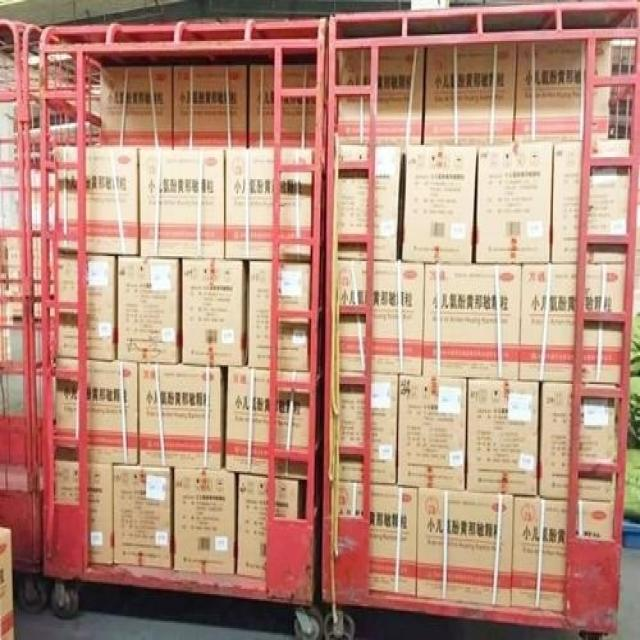box: (424, 263, 521, 381), (419, 488, 513, 608), (476, 140, 553, 263), (138, 150, 224, 258), (425, 43, 517, 143), (141, 364, 227, 468), (403, 147, 477, 265), (468, 379, 540, 495), (398, 375, 468, 488), (182, 259, 248, 365), (118, 256, 182, 364), (515, 43, 585, 140), (520, 265, 577, 381), (174, 469, 237, 573), (512, 497, 568, 611), (113, 466, 174, 567), (174, 65, 248, 148), (372, 261, 425, 375), (100, 67, 173, 148), (86, 148, 138, 254), (87, 360, 138, 466), (371, 485, 419, 597), (227, 148, 273, 258), (225, 367, 270, 476), (378, 48, 424, 145), (552, 140, 582, 263), (539, 384, 571, 498), (375, 147, 406, 261), (86, 254, 118, 360), (371, 374, 399, 483), (238, 474, 266, 577), (247, 259, 273, 367), (588, 169, 630, 234), (88, 464, 114, 567), (581, 323, 623, 382), (580, 398, 618, 463), (584, 263, 626, 312), (276, 387, 308, 449), (250, 65, 274, 147), (282, 174, 312, 239), (338, 171, 369, 232), (276, 317, 310, 369), (0, 527, 15, 640), (282, 97, 315, 147), (338, 97, 370, 145), (339, 316, 366, 372), (279, 263, 311, 309), (339, 386, 362, 444), (577, 500, 614, 536), (338, 259, 366, 305), (274, 478, 302, 519), (339, 49, 370, 85), (59, 171, 77, 232), (591, 87, 611, 140), (56, 381, 78, 428), (579, 473, 614, 500), (58, 311, 78, 358), (54, 461, 79, 498), (59, 254, 78, 302), (586, 244, 627, 263), (283, 65, 316, 87), (340, 485, 361, 514), (276, 461, 307, 480), (593, 140, 630, 155), (595, 41, 611, 75), (280, 246, 311, 263), (339, 459, 362, 480), (282, 147, 314, 162), (338, 242, 366, 259), (339, 145, 369, 160), (279, 370, 310, 382), (52, 148, 77, 160), (58, 358, 78, 369), (56, 449, 78, 459), (59, 242, 77, 254)
